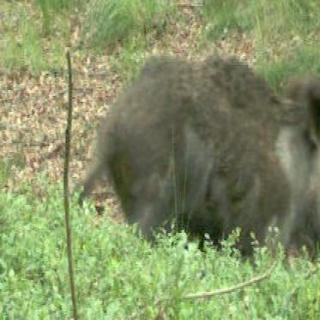Pig: (82, 30, 320, 282)
